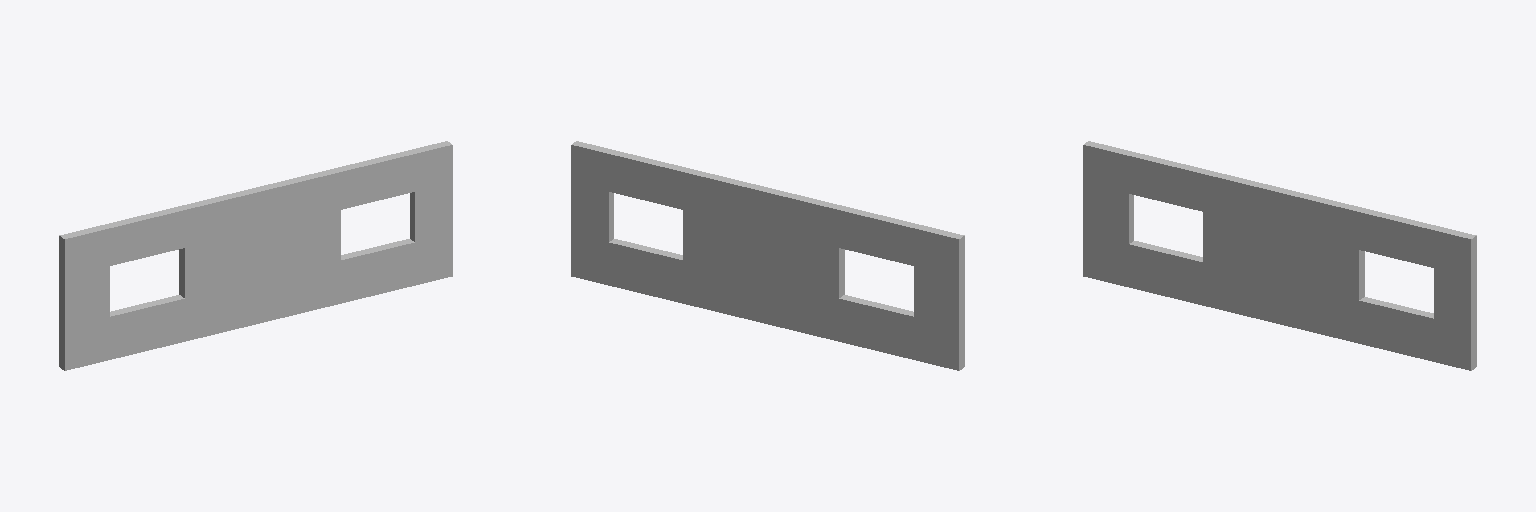
File: titlePlate.mtl.obj
3 renders of one model, left to right at view 1: azimuth 30°, elevation 25°; view 2: azimuth 150°, elevation 25°; view 3: azimuth 330°, elevation 25°, orthographic.
Parts seen in each view (by area): view 1: Cube.002_Cube.006; view 2: Cube.002_Cube.006; view 3: Cube.002_Cube.006.
Part boxes in pixels (bbox=[...]): Cube.002_Cube.006: bbox=[59, 141, 452, 370]; Cube.002_Cube.006: bbox=[571, 141, 964, 370]; Cube.002_Cube.006: bbox=[1083, 141, 1476, 370].
Bounding box in the file's own units: 34.21 × 11.1 × 0.8119.